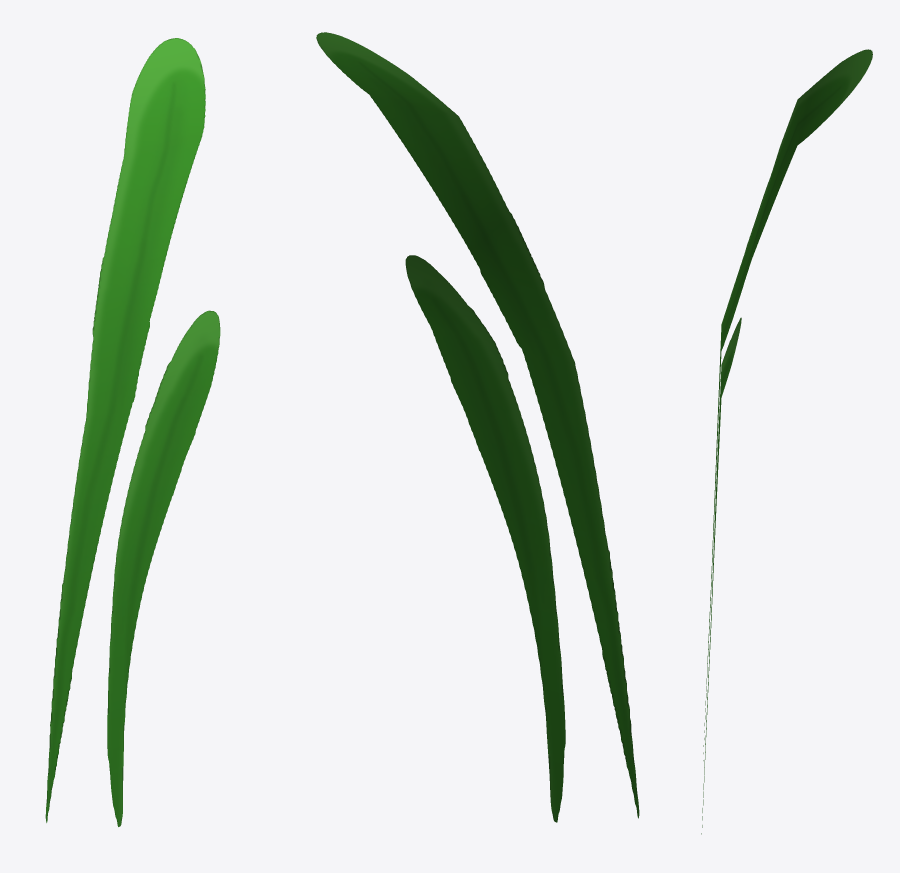
File: sm_env_grass_6.fbx
The picture shows the model from 3 angles, left to right: view 1: azimuth 30°, elevation 25°; view 2: azimuth 150°, elevation 25°; view 3: azimuth 270°, elevation 25°; orthographic projection. The views are drawn at different scales.
Parts seen in each view (by area): view 1: grass_6; view 2: grass_6; view 3: grass_6.
Boxes of the visible parts, x1,y1,x2,y2 form: grass_6: (45,38,220,826); grass_6: (316,32,639,822); grass_6: (701,49,872,834).
Size of the model in its own units: 12.01 by 32.42 by 6.17.
